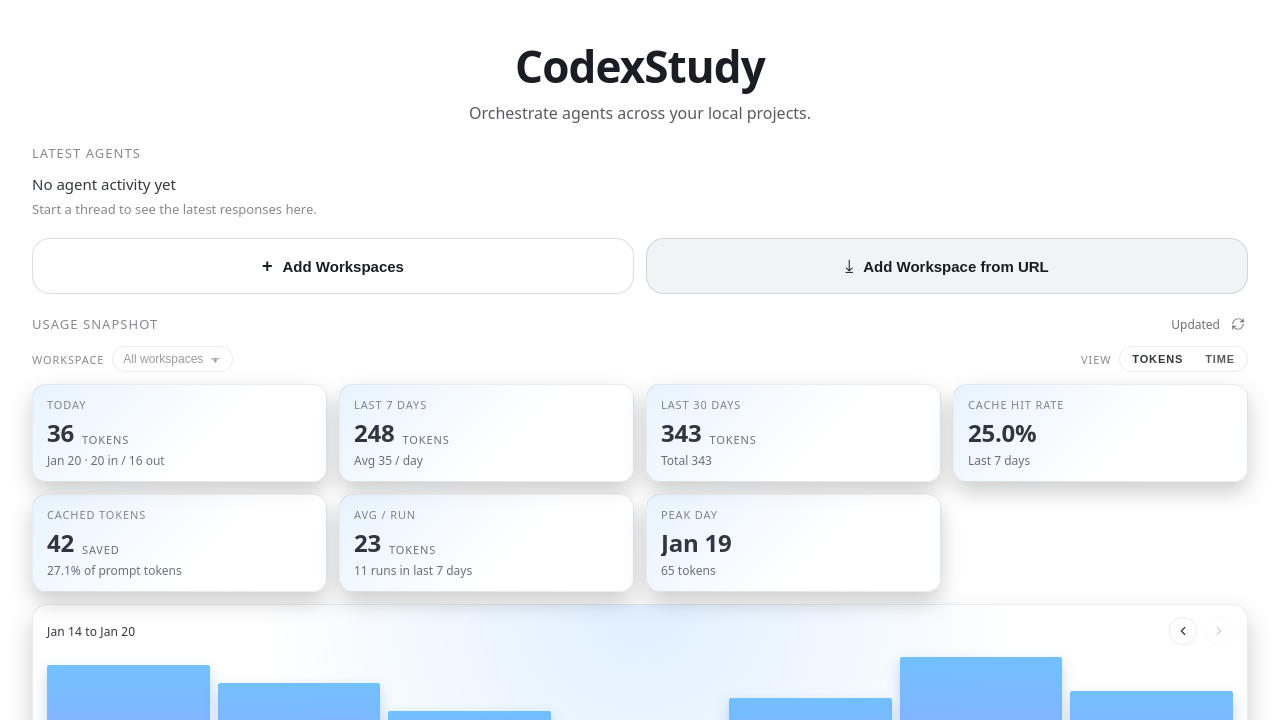
Home › renders expanded token stats and account limits
Check: the text "Cached tokens" is shown, box x1=47 y1=507 x2=146 y2=522
Check: the text "Avg / run" is shown, box x1=354 y1=507 x2=416 y2=522
Click the button named "Show previous week" at x=1183, y=631, box x1=1169 y1=617 x2=1197 y2=645
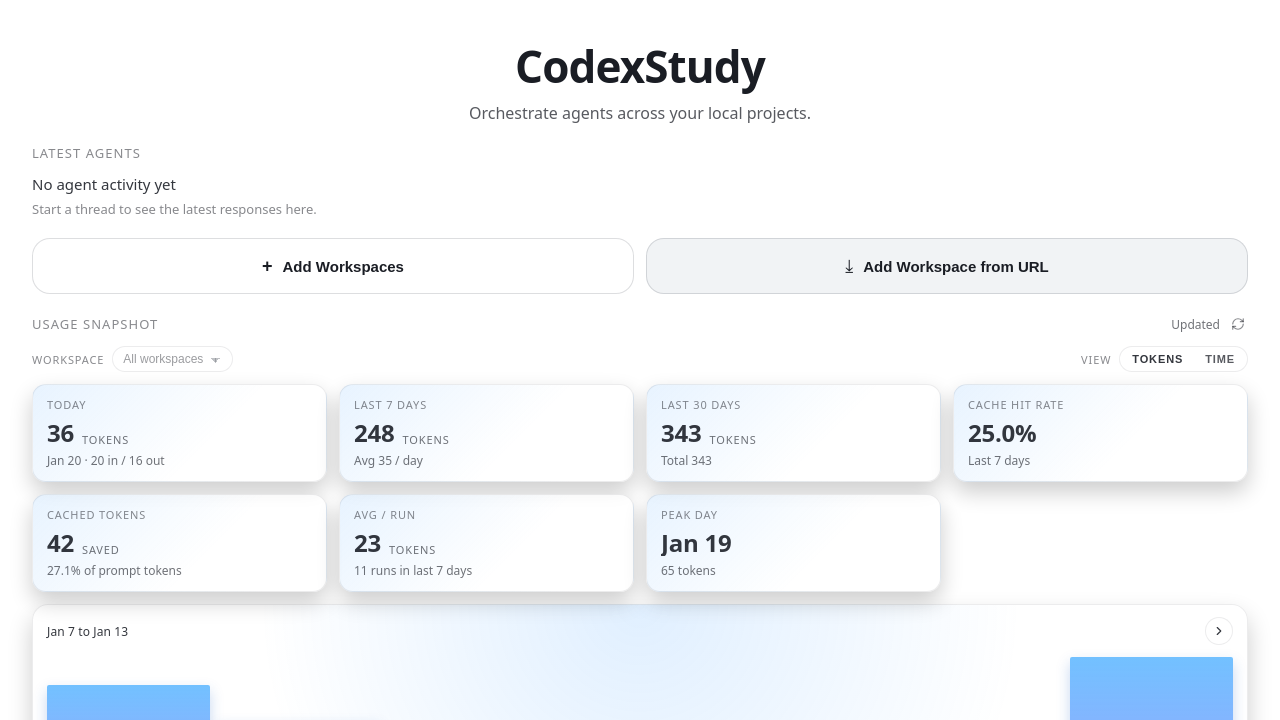
Check: the text named "Usage week 2026-01-07 to 2026-01-13" is shown, box x1=47 y1=622 x2=128 y2=640
Click the button named "Show next week" at x=1219, y=631, box x1=1205 y1=617 x2=1233 y2=645
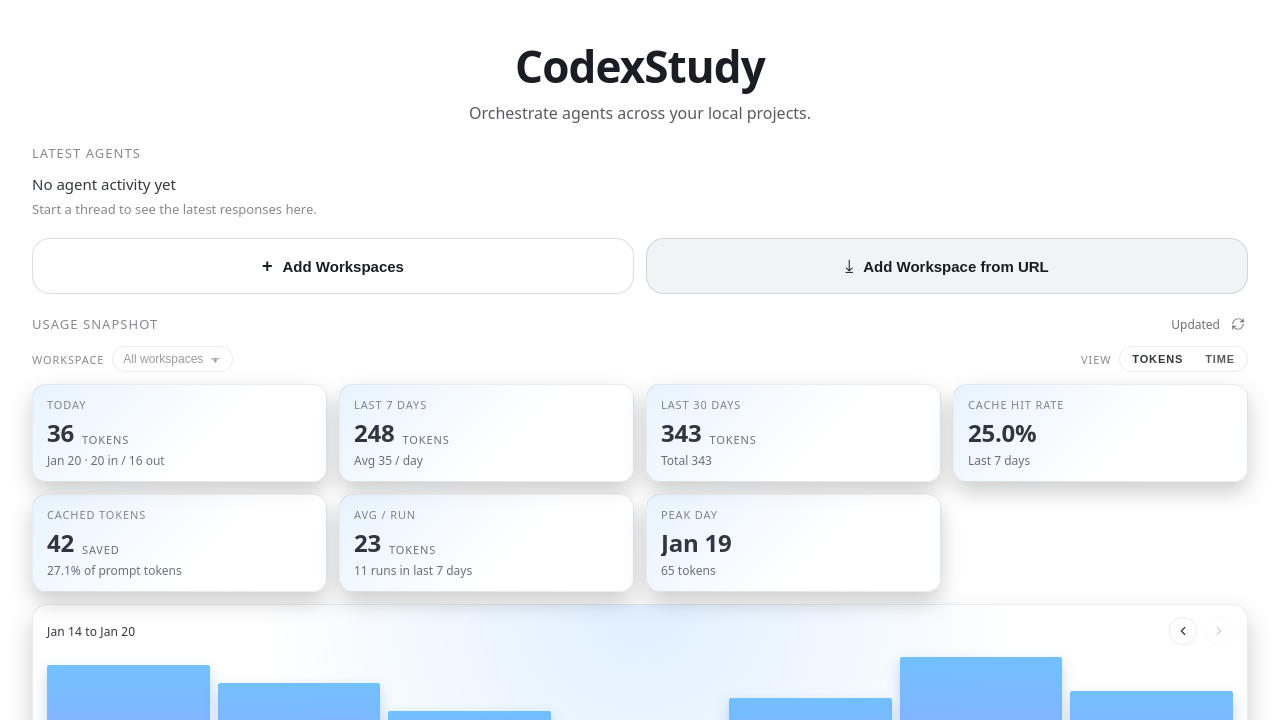
Check: the text named "Usage week 2026-01-14 to 2026-01-20" is shown, box x1=47 y1=622 x2=135 y2=640
